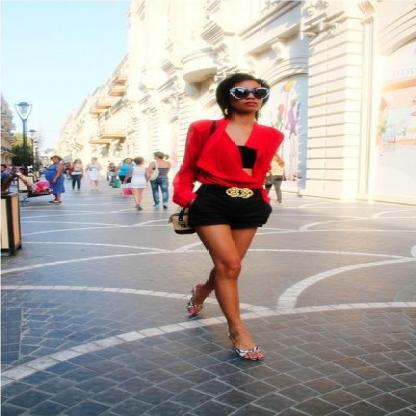shirt: (173, 120, 283, 202)
shorts: (175, 183, 271, 240)
skirt: (238, 146, 258, 168)
